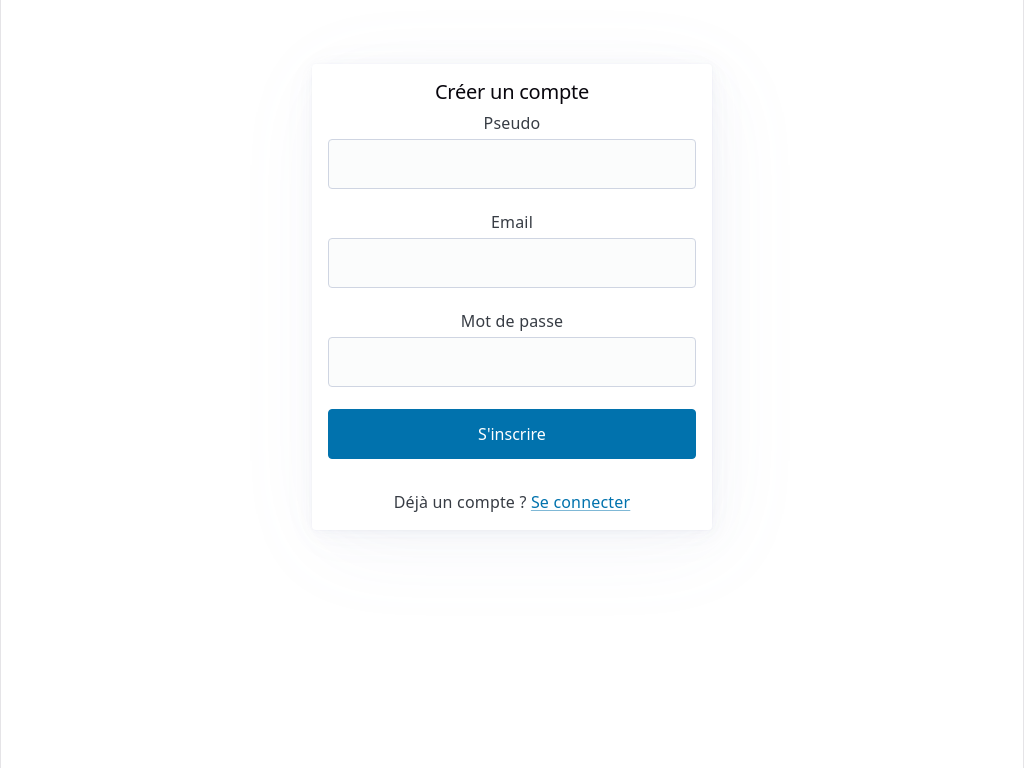
Test case: Register › affiche une erreur si l'inscription échoue
The width and height of the screenshot is (1024, 768).
In the field labelled "Pseudo": (512, 164) [328,139,696,189], type "testuser"
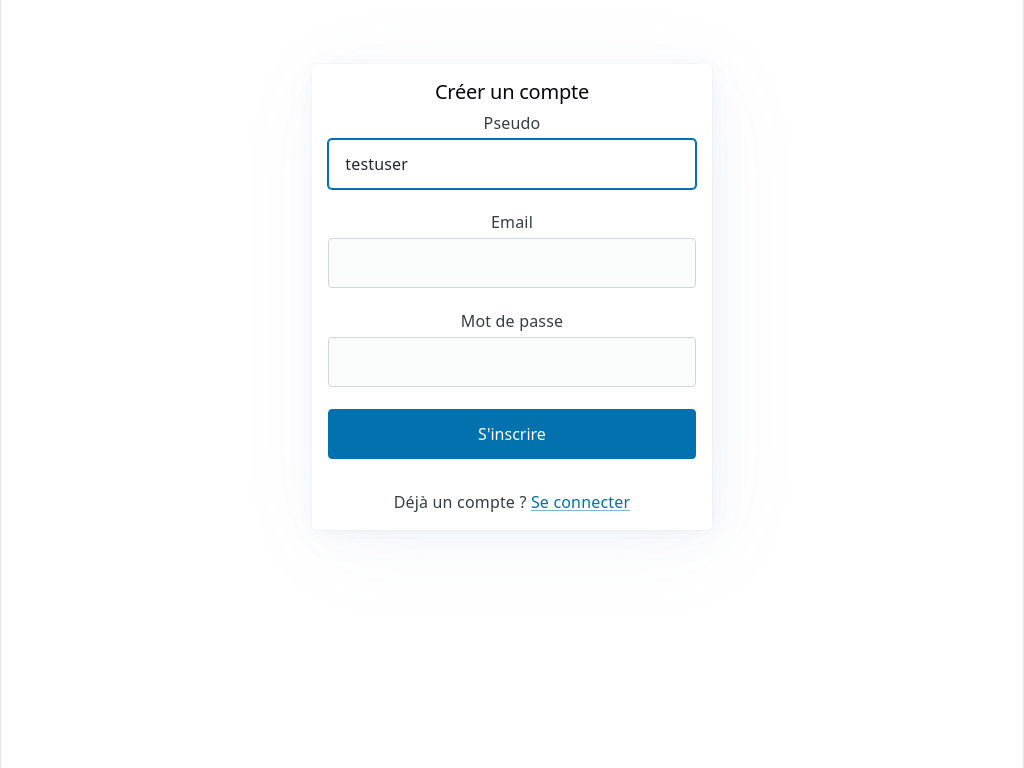
In the field labelled "Email": (512, 263) [328,238,696,288], type "existing@example.com"
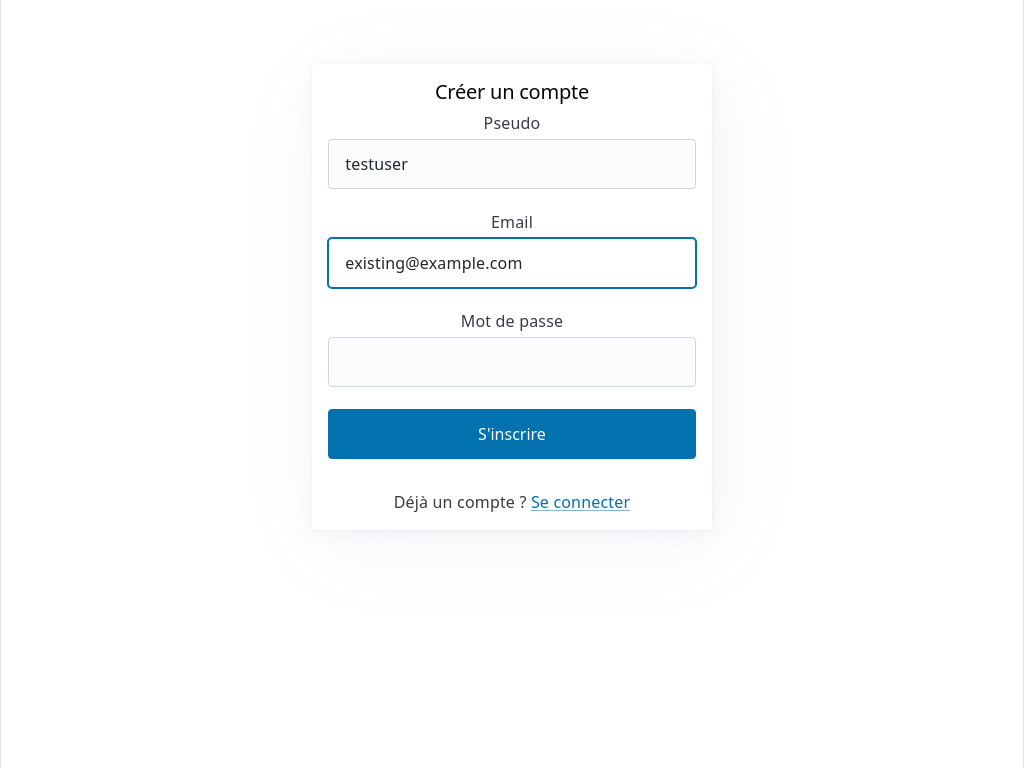
In the password field labelled "Mot de passe": (512, 362) [328,337,696,387], type "password123"
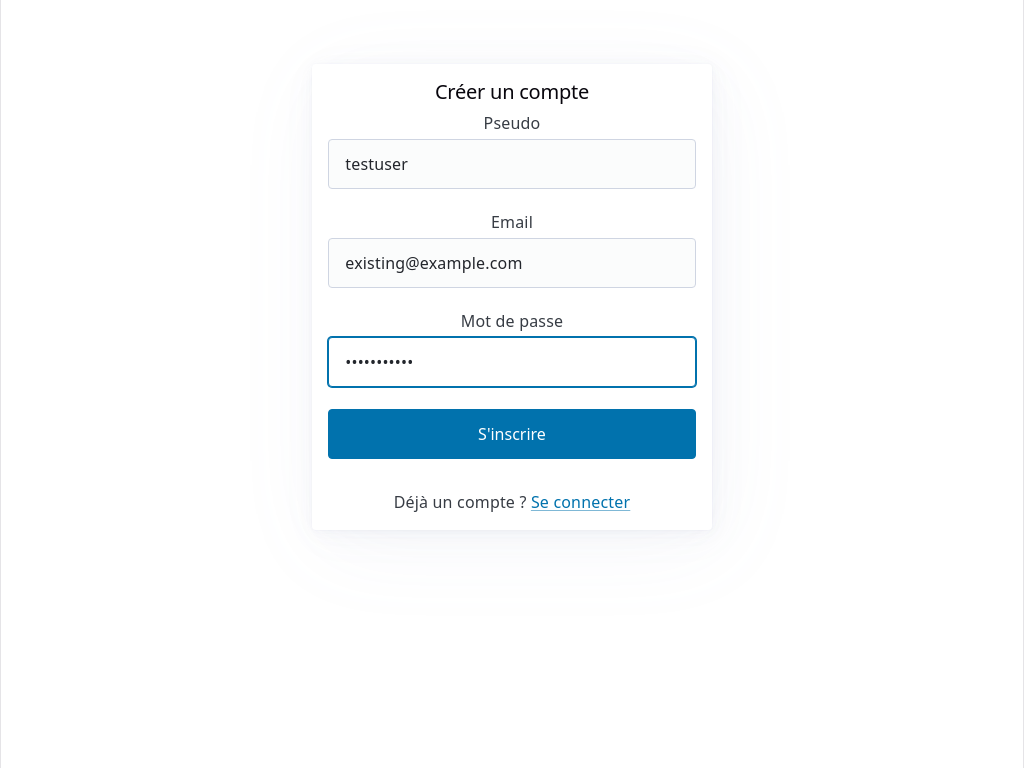
Click the button "S'inscrire": (512, 434) [328,409,696,459]
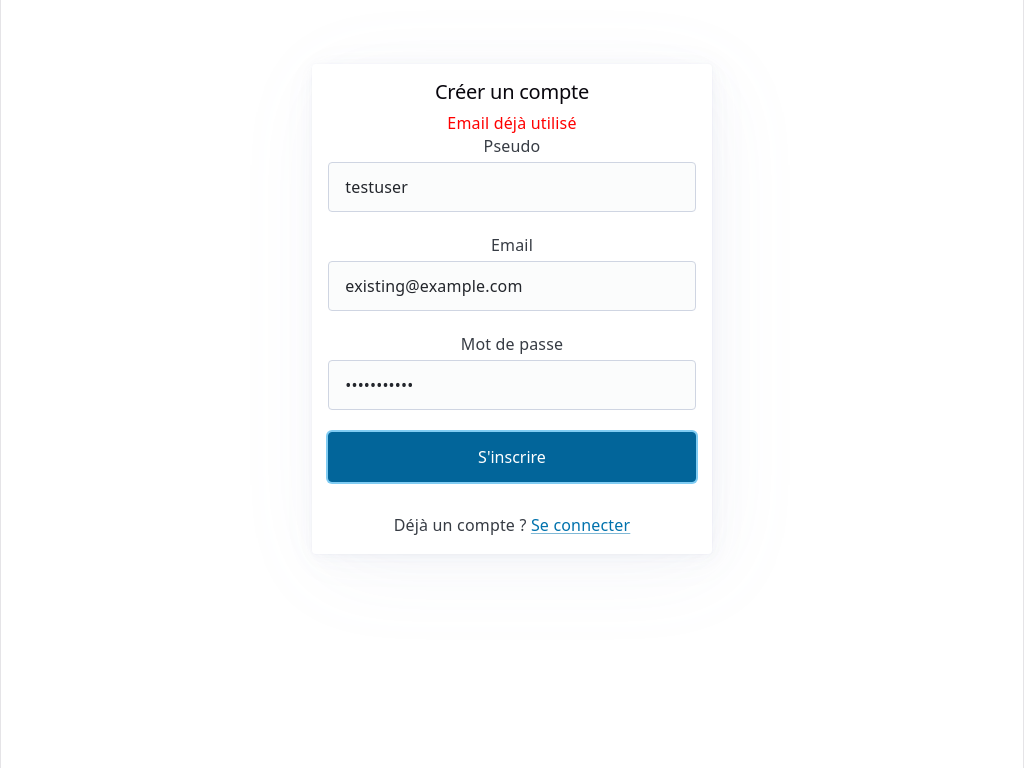
Check: the text "Email déjà utilisé" is shown, box [447,112,577,134]
